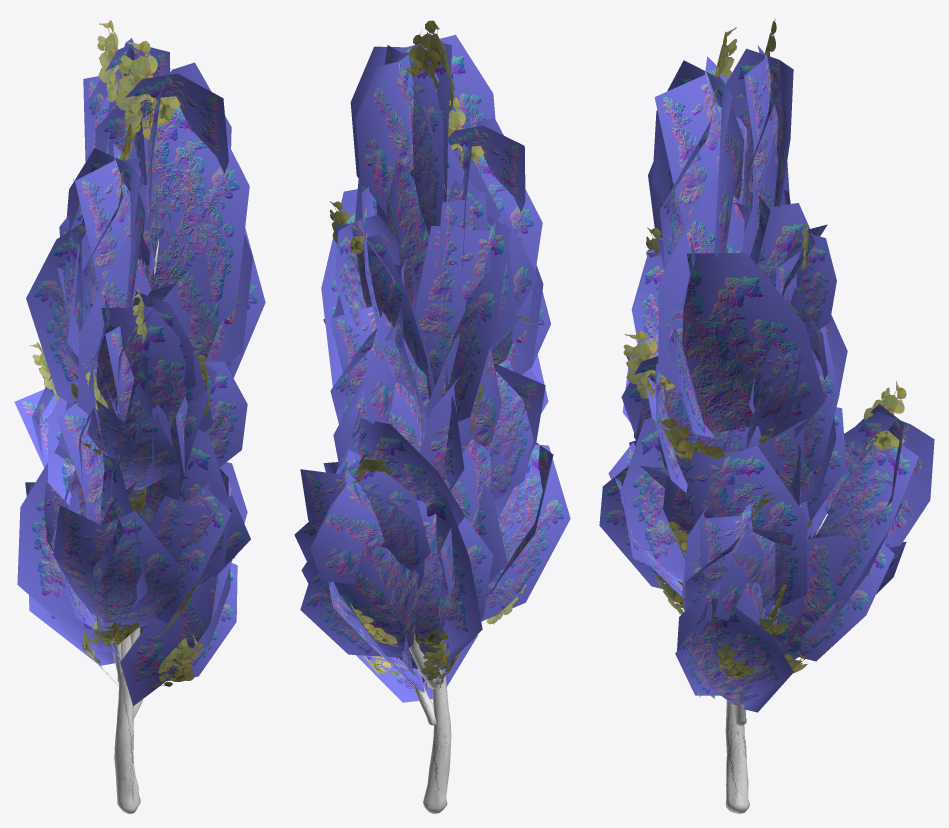
File: PoplarTree00e.fbx
3 renders of one model, left to right at view 1: azimuth 30°, elevation 25°; view 2: azimuth 150°, elevation 25°; view 3: azimuth 270°, elevation 25°, orthographic.
Visible parts, largest first — view 1: PoplarBranchA036, PoplarBranchA003, PoplarBranchB021, PoplarBranchB003, PoplarBranchA040, PoplarBranchB027, PoplarBranchA037, PoplarBranchA032, PoplarBranchA013, PoplarBranchA008, PoplarBranchB020, PoplarBranchB024 (+38 smaller); view 2: PoplarBranchA038, PoplarBranchA005, PoplarBranchB016, PoplarBranchB029, PoplarBranchA047, PoplarBranchA040, PoplarBranchB028, PoplarBranchA027, PoplarBranchB003, PoplarBranchB017, PoplarBranchB012, PoplarBranchB001 (+41 smaller); view 3: PoplarBranchB024, PoplarBranchA, PoplarBranchA046, PoplarBranchA037, PoplarBranchB027, PoplarBranchB023, PoplarBranchB005, PoplarBranchB022, PoplarBranchB028, PoplarBranchB030, PoplarBranchA042, PoplarBranchB016 (+35 smaller).
Boxes of the visible parts, x1=… form: PoplarBranchA036: x1=107, y1=95, x2=249, y2=323; PoplarBranchA003: x1=53, y1=505, x2=178, y2=629; PoplarBranchB021: x1=74, y1=295, x2=213, y2=432; PoplarBranchB003: x1=17, y1=445, x2=146, y2=652; PoplarBranchA040: x1=26, y1=222, x2=149, y2=404; PoplarBranchB027: x1=120, y1=575, x2=217, y2=705; PoplarBranchA037: x1=95, y1=73, x2=228, y2=173; PoplarBranchA032: x1=75, y1=144, x2=143, y2=290; PoplarBranchA013: x1=87, y1=400, x2=181, y2=490; PoplarBranchA008: x1=148, y1=495, x2=250, y2=586; PoplarBranchB020: x1=77, y1=239, x2=151, y2=416; PoplarBranchB024: x1=112, y1=237, x2=219, y2=413; PoplarBranchA038: x1=415, y1=211, x2=537, y2=360; PoplarBranchA005: x1=481, y1=444, x2=570, y2=621; PoplarBranchB016: x1=355, y1=45, x2=438, y2=215; PoplarBranchB029: x1=301, y1=500, x2=426, y2=654; PoplarBranchA047: x1=300, y1=456, x2=430, y2=571; PoplarBranchA040: x1=449, y1=215, x2=511, y2=421; PoplarBranchB028: x1=310, y1=450, x2=384, y2=584; PoplarBranchA027: x1=384, y1=45, x2=444, y2=235; PoplarBranchB003: x1=426, y1=495, x2=482, y2=670; PoplarBranchB017: x1=376, y1=142, x2=473, y2=305; PoplarBranchB012: x1=358, y1=418, x2=464, y2=525; PoplarBranchB001: x1=420, y1=348, x2=501, y2=481; PoplarBranchB024: x1=656, y1=237, x2=825, y2=441; PoplarBranchA: x1=663, y1=445, x2=807, y2=607; PoplarBranchA046: x1=808, y1=445, x2=918, y2=603; PoplarBranchA037: x1=654, y1=56, x2=747, y2=228; PoplarBranchB027: x1=668, y1=585, x2=793, y2=712; PoplarBranchB023: x1=658, y1=174, x2=744, y2=405; PoplarBranchB005: x1=621, y1=417, x2=777, y2=580; PoplarBranchB022: x1=652, y1=60, x2=743, y2=258; PoplarBranchB028: x1=800, y1=411, x2=934, y2=547; PoplarBranchB030: x1=773, y1=535, x2=906, y2=659; PoplarBranchA042: x1=699, y1=503, x2=775, y2=608; PoplarBranchB016: x1=725, y1=48, x2=793, y2=209.
Bounding box in the file's own units: 874 × 3265 × 1244.
